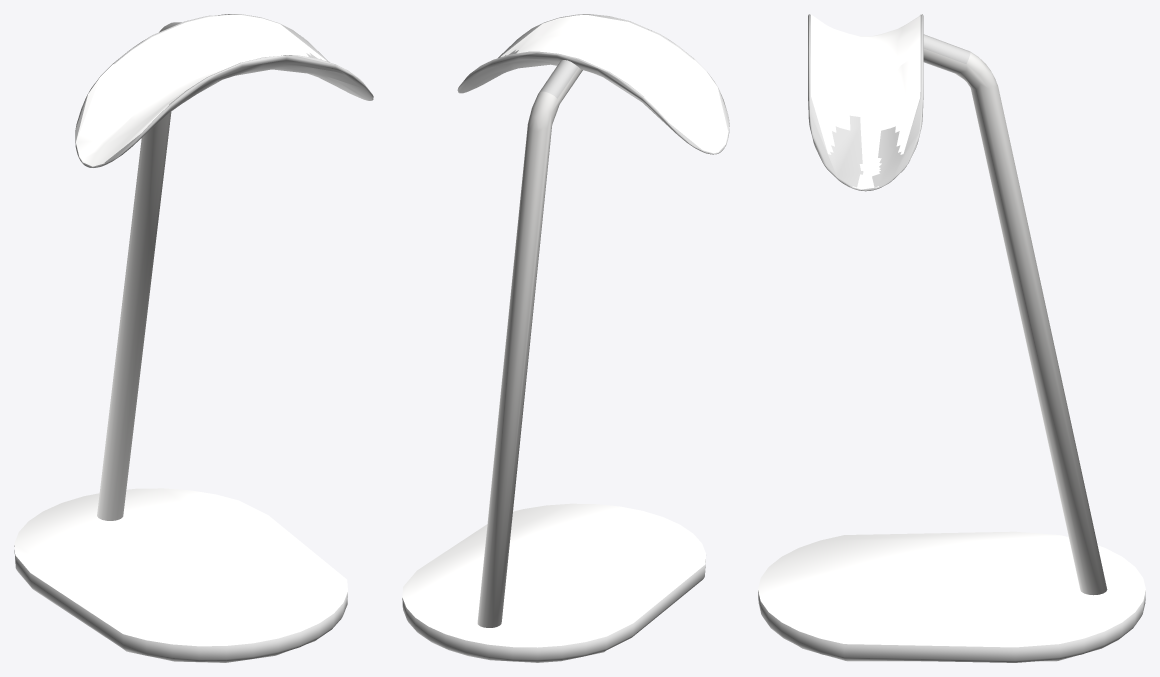
Rendered from HeadphoneStand.glb.
The picture shows the model from 3 angles, left to right: view 1: azimuth 30°, elevation 25°; view 2: azimuth 150°, elevation 25°; view 3: azimuth 270°, elevation 25°; orthographic projection. The views are drawn at different scales.
Visible parts, largest first — view 1: BenksHeadphoneStand; view 2: BenksHeadphoneStand; view 3: BenksHeadphoneStand.
Boxes of the visible parts, x1,y1,x2,y2 form: BenksHeadphoneStand: [14, 14, 373, 662]; BenksHeadphoneStand: [402, 14, 729, 662]; BenksHeadphoneStand: [758, 14, 1145, 662].
Size of the model in its own units: 0.1499 by 0.2972 by 0.1805.
Materials: 4 (1 with a texture image).
